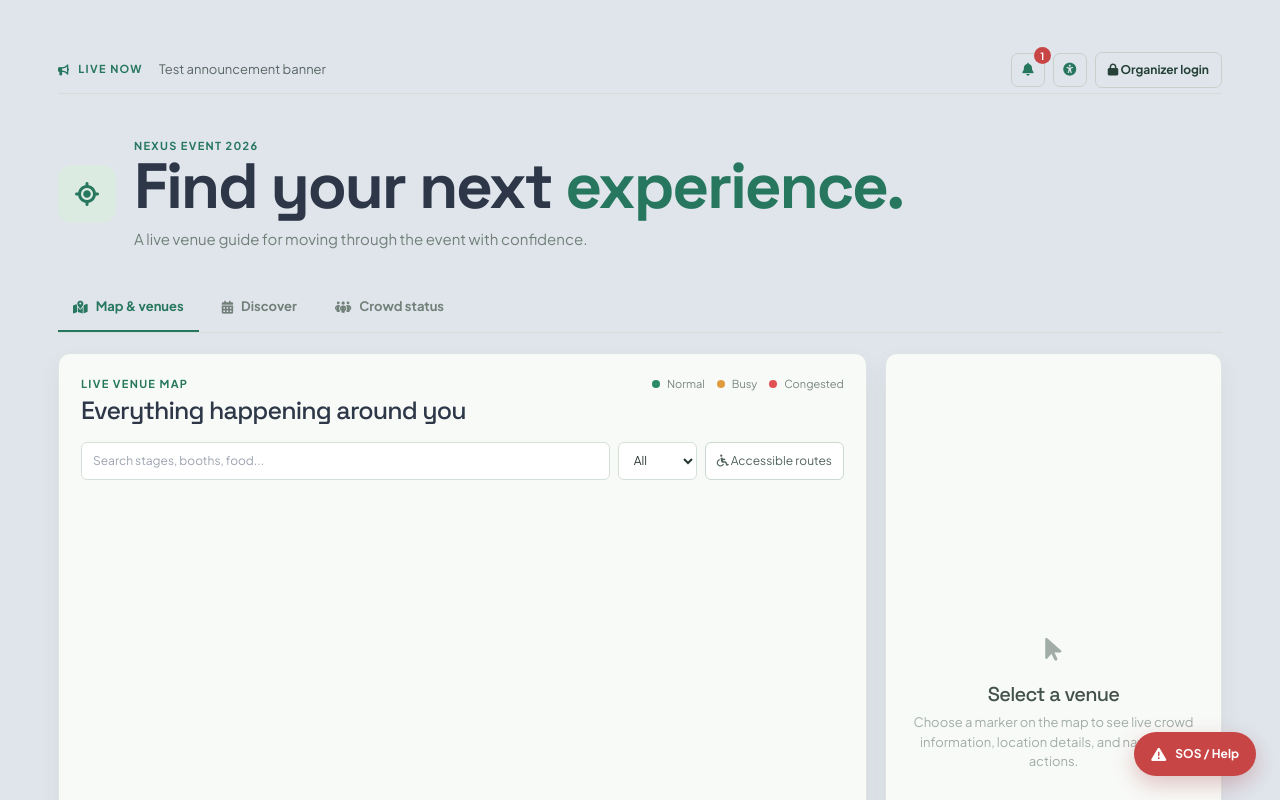
Test case: App › rejects an invalid organizer code
Expected: the text "Test announcement banner" is shown, 159,61 -> 326,77
Click the button "Organizer login" at (1158, 70), box 1095,52 -> 1222,88
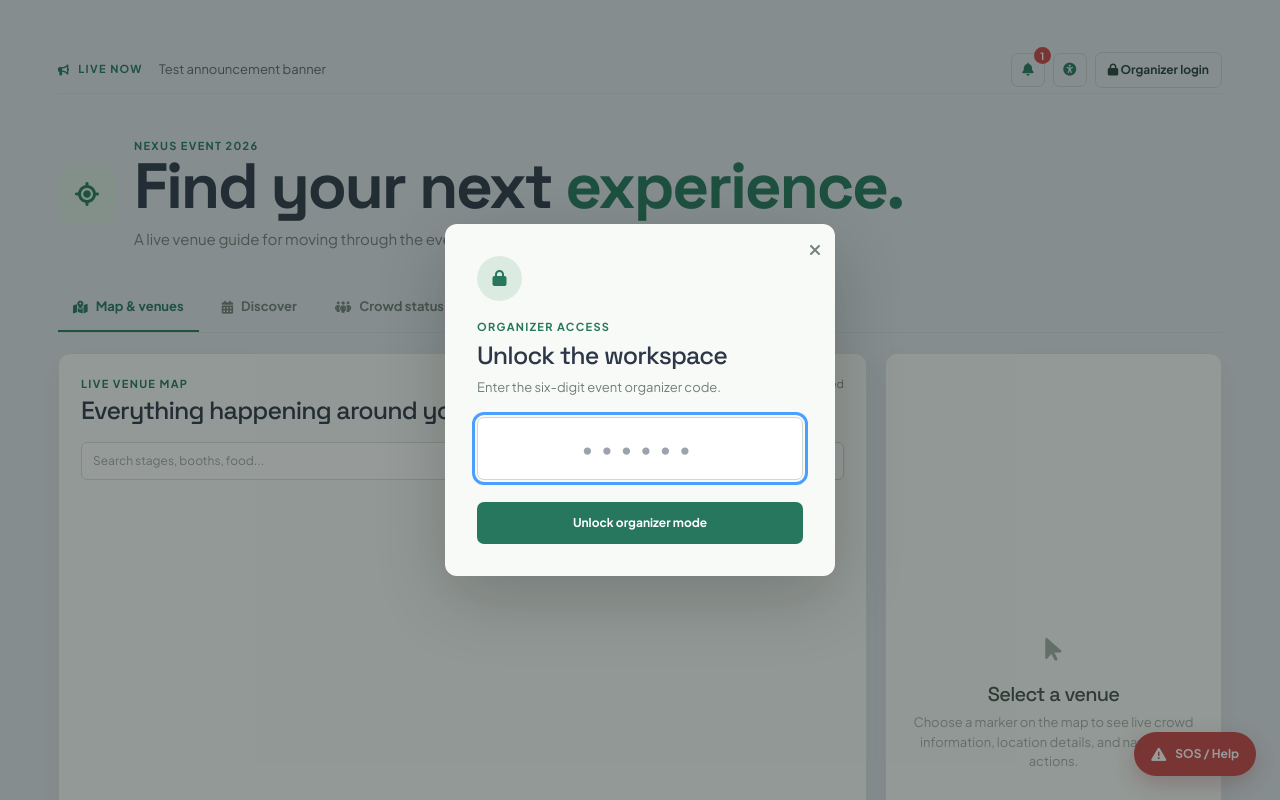
Type "000000" into the field named "six digit organizer code" at (640, 449), box 477,417 -> 803,480
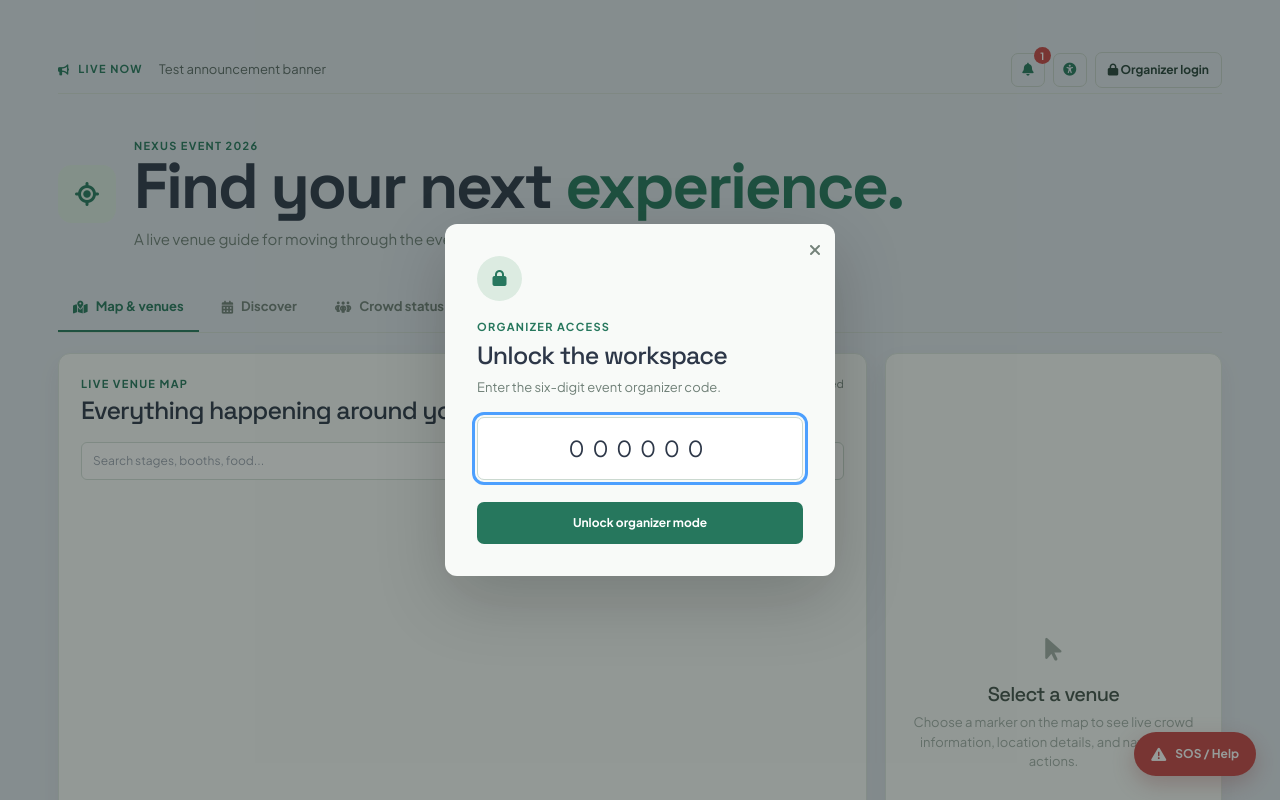
Click the button "Unlock organizer mode" at (640, 523), box 477,502 -> 803,544
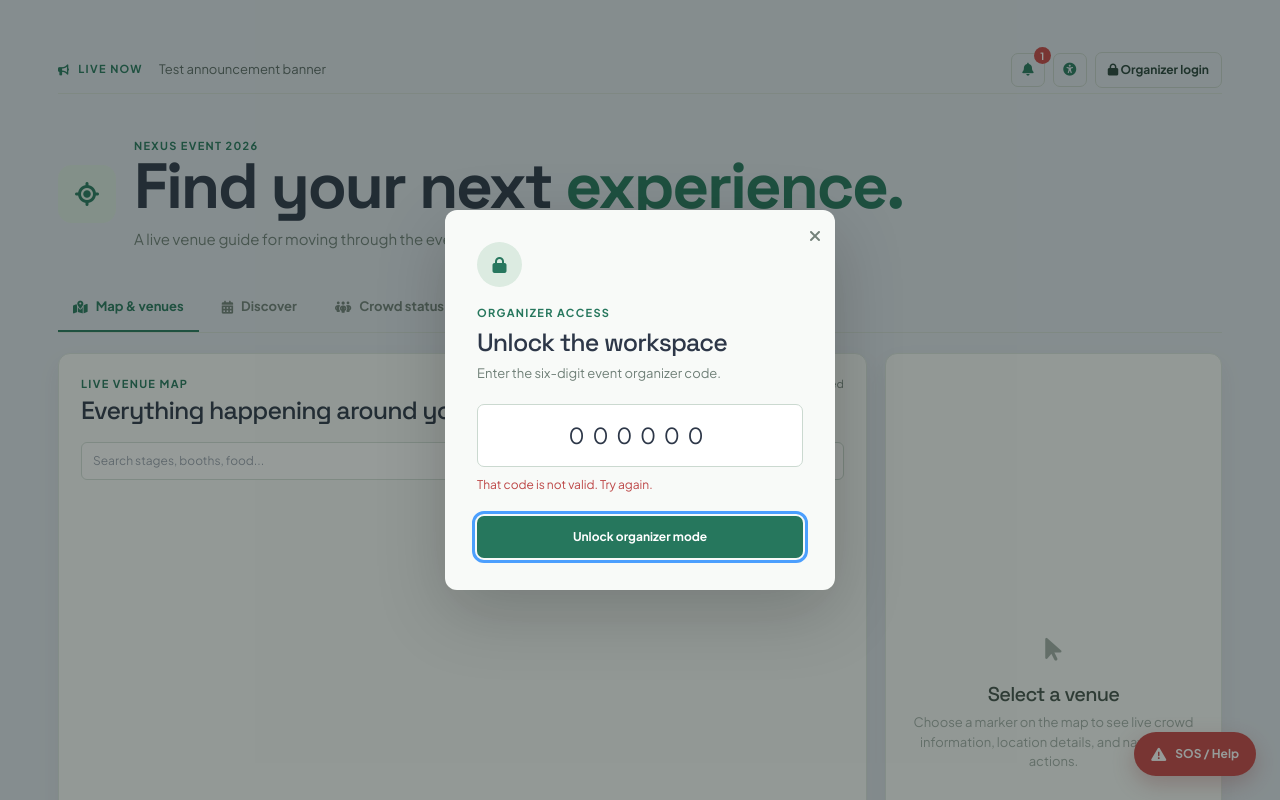
Now the text "That code is not valid. Try again." is shown, box 477,477 -> 653,492
